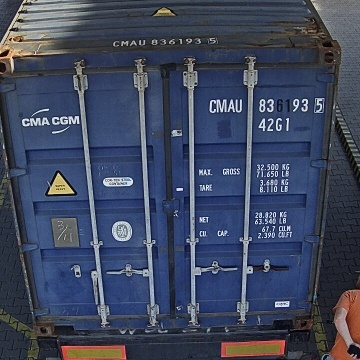serial_id: (209, 98, 324, 112)
